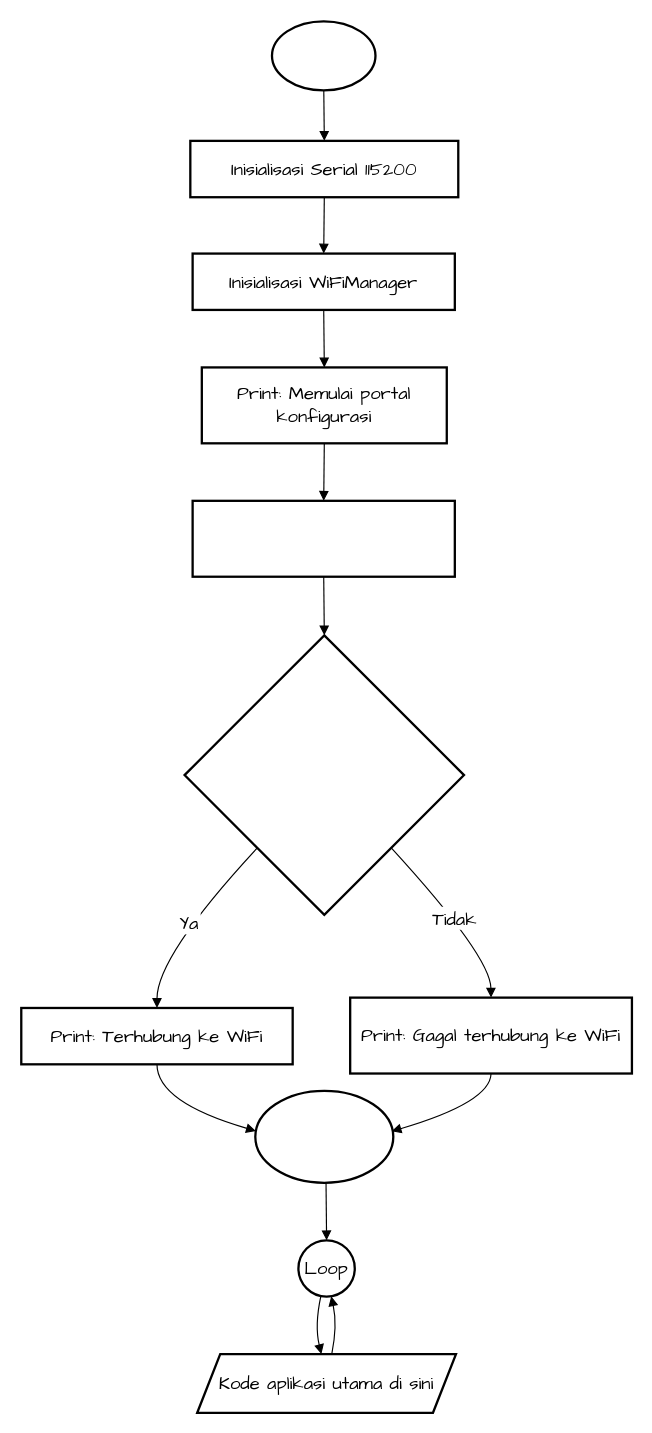
The diagram is 652 pixels wide and 1433 high, and some of its shapes have lost their labels. Here are the shapes that lost their labels. From the top down, the centre of each, then its label:
At (323,55): "Mulai".
At (323,538): "Start Config Portal: ESP dara dan della".
At (324,774): "Apakah terhubung ke WiFi?".
At (324,1136): "Selesai Setup".
